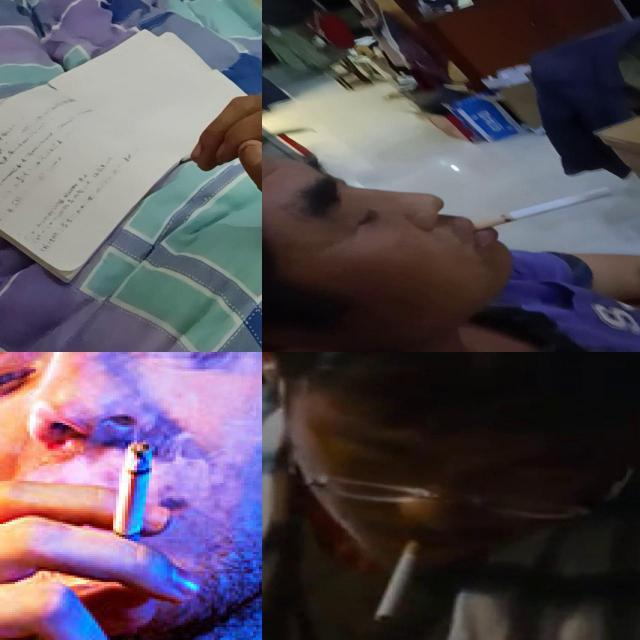smoke: (471, 187, 614, 231), (372, 534, 426, 622), (113, 438, 146, 539)
